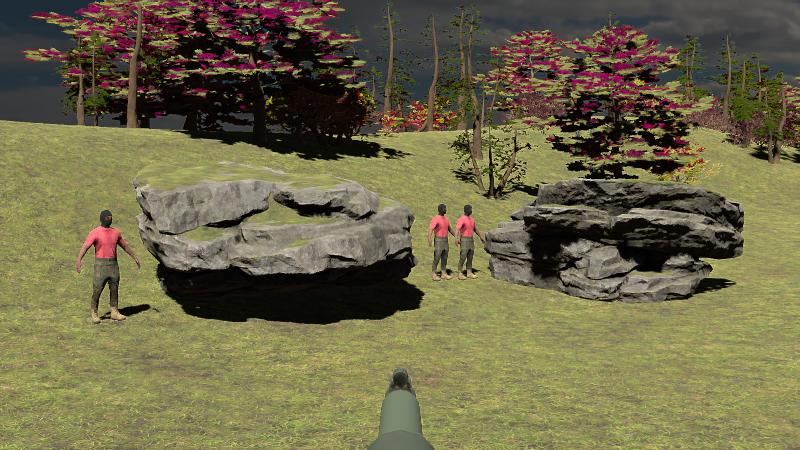Human: (76, 210, 140, 323), (428, 202, 457, 281), (455, 204, 485, 280)
